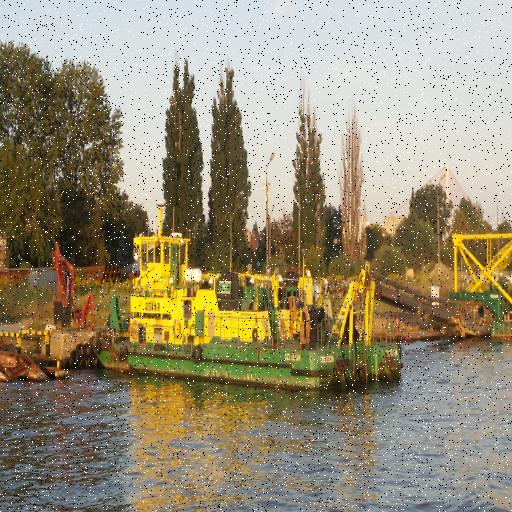tugboat: (92, 200, 406, 402)
